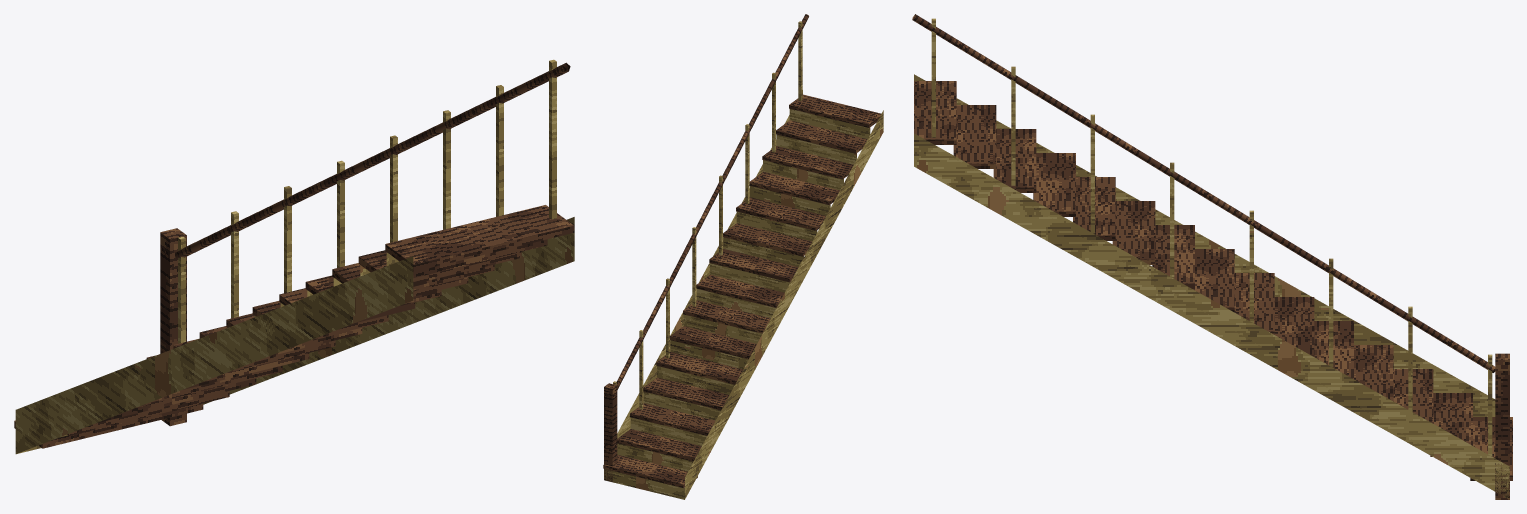
The model's file is RES_Int_Stair_Basement_2.7m.obj.
3 renders of one model, left to right at view 1: azimuth 30°, elevation 25°; view 2: azimuth 150°, elevation 25°; view 3: azimuth 270°, elevation 25°, orthographic. The views are drawn at different scales.
Visible parts, largest first — view 1: RES_Int_Stair_Basement_2.7m_Mesh_M_Furn_WoodPainted, RES_Int_Stair_Basement_2.7m_Mesh_M_Furn_WoodDark; view 2: RES_Int_Stair_Basement_2.7m_Mesh_M_Furn_WoodDark, RES_Int_Stair_Basement_2.7m_Mesh_M_Furn_WoodPainted; view 3: RES_Int_Stair_Basement_2.7m_Mesh_M_Furn_WoodDark, RES_Int_Stair_Basement_2.7m_Mesh_M_Furn_WoodPainted.
Boxes of the visible parts, x1,y1,x2,y2 form: RES_Int_Stair_Basement_2.7m_Mesh_M_Furn_WoodPainted: [15, 59, 574, 454]; RES_Int_Stair_Basement_2.7m_Mesh_M_Furn_WoodDark: [14, 62, 574, 448]; RES_Int_Stair_Basement_2.7m_Mesh_M_Furn_WoodDark: [603, 14, 880, 487]; RES_Int_Stair_Basement_2.7m_Mesh_M_Furn_WoodPainted: [604, 21, 883, 499]; RES_Int_Stair_Basement_2.7m_Mesh_M_Furn_WoodDark: [912, 14, 1512, 499]; RES_Int_Stair_Basement_2.7m_Mesh_M_Furn_WoodPainted: [914, 18, 1509, 498].
Bounding box in the file's own units: 0.95 × 3.62 × 4.08.
Materials: 2 (2 with a texture image).
